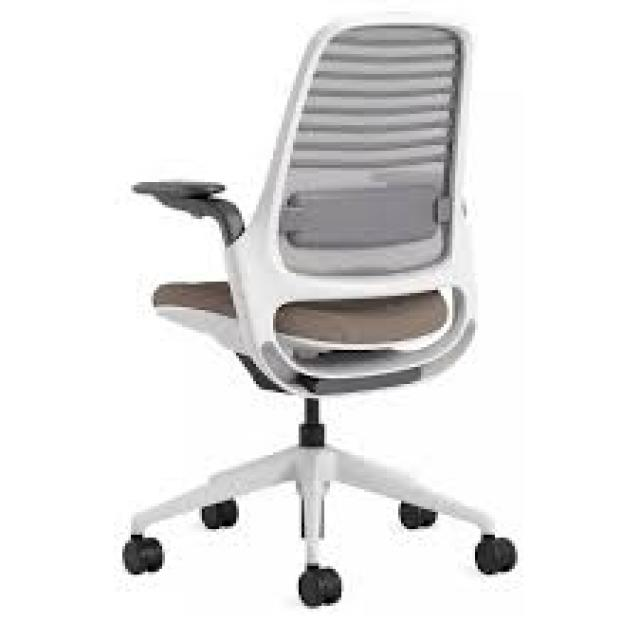chair: (123, 12, 521, 610)
